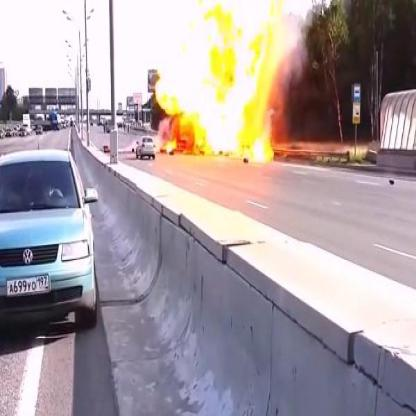fire: (153, 0, 291, 163)
